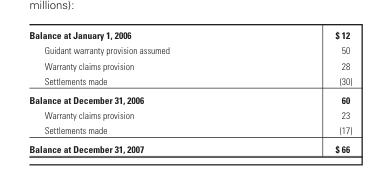table: (28, 29, 351, 154)
table column: (28, 29, 251, 154), (251, 29, 351, 154)
table row: (28, 72, 351, 89), (28, 89, 351, 106), (28, 121, 351, 138), (28, 138, 351, 154), (28, 42, 351, 57), (28, 57, 351, 72), (28, 106, 351, 121), (28, 29, 351, 42)
